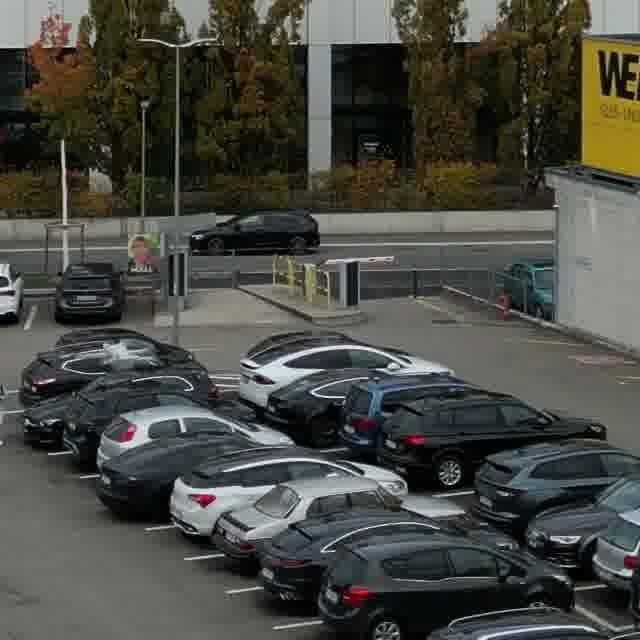Drohne: (76, 341, 153, 361)
